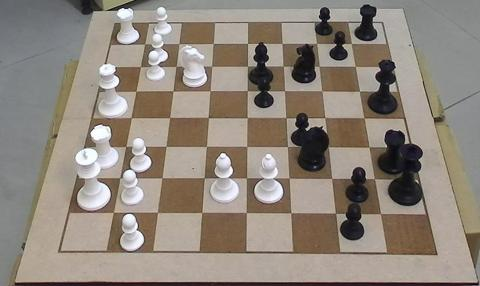xcorner: (277, 39, 287, 49), (242, 39, 252, 49), (207, 39, 217, 49), (351, 61, 361, 71), (242, 62, 252, 72), (206, 62, 216, 72), (170, 62, 180, 72), (134, 62, 144, 72), (355, 86, 365, 96), (317, 86, 327, 96), (360, 113, 370, 123), (320, 113, 330, 123), (281, 113, 291, 123), (365, 142, 375, 152), (160, 142, 170, 152), (119, 142, 129, 152), (327, 174, 337, 184), (284, 174, 294, 184), (241, 174, 251, 184), (156, 174, 166, 184), (331, 209, 341, 219), (286, 209, 296, 219), (241, 209, 251, 219), (196, 209, 206, 219), (347, 39, 357, 48), (312, 39, 322, 48), (173, 39, 182, 49), (138, 40, 148, 49), (314, 62, 324, 71), (278, 62, 288, 71), (280, 86, 289, 96), (242, 87, 252, 96), (204, 87, 214, 96), (167, 87, 177, 96), (130, 87, 139, 97), (242, 113, 251, 123), (203, 113, 212, 123), (164, 113, 173, 123), (125, 113, 134, 123), (324, 142, 333, 152), (283, 142, 292, 152), (242, 142, 251, 152), (201, 142, 210, 152), (371, 174, 380, 184), (199, 174, 208, 184), (114, 174, 123, 184), (377, 209, 386, 219), (152, 209, 162, 218), (107, 209, 117, 218)
